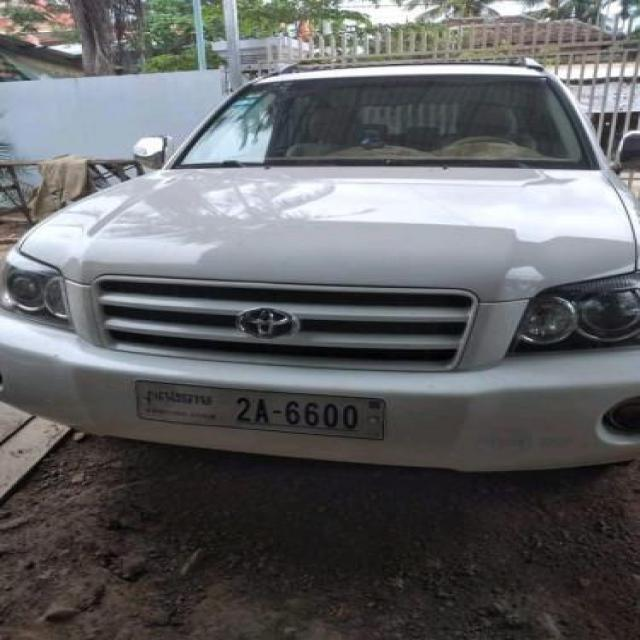Kampong_Cham: (147, 389, 212, 406)
